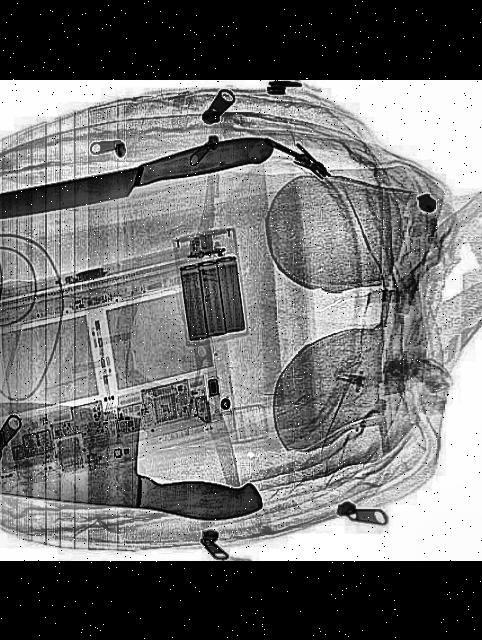Knife: (0, 399, 277, 526), (0, 130, 280, 236)
